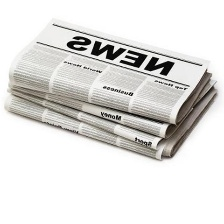news_paper: (0, 13, 221, 164)
